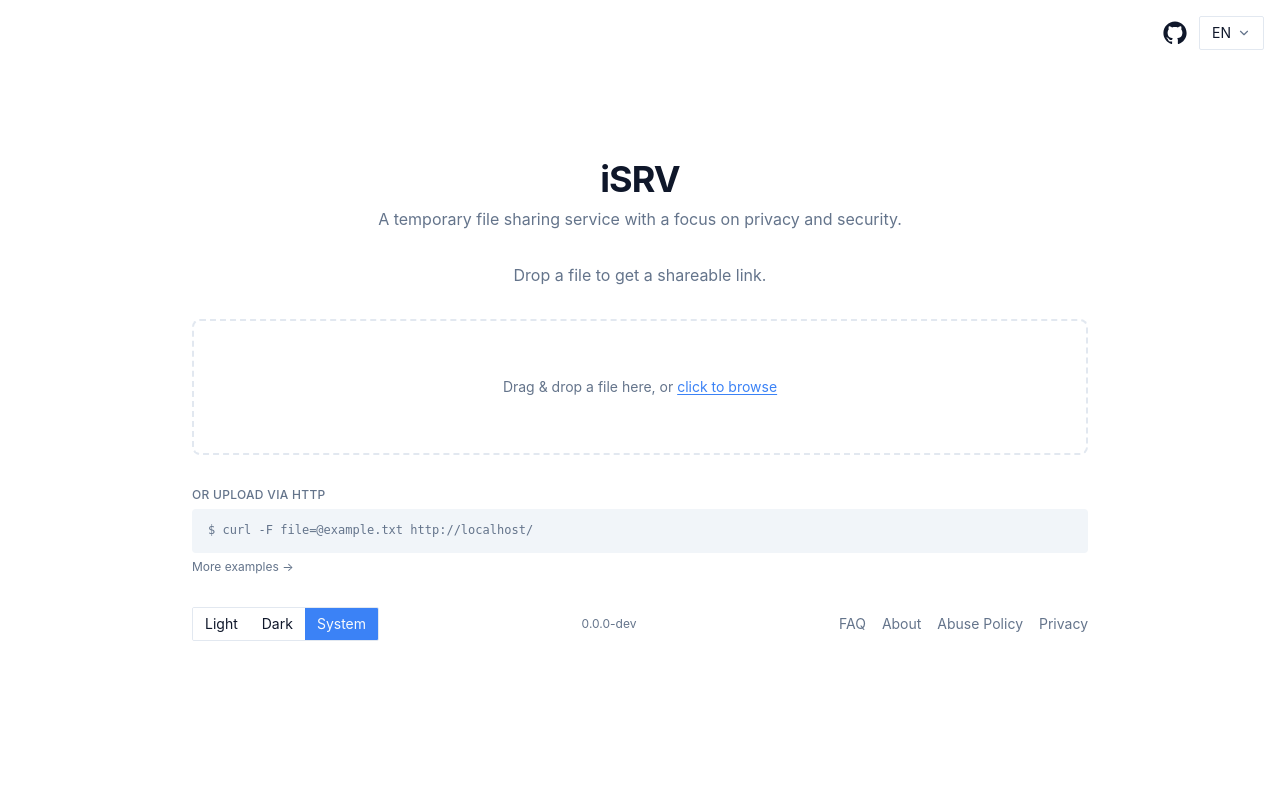
home page › navigates to the FAQ page via the footer
Expected: the heading "iSRV" is shown, [600, 159, 680, 199]
Click the link "FAQ". click: coordinates (852, 624)
box: [839, 614, 866, 634]
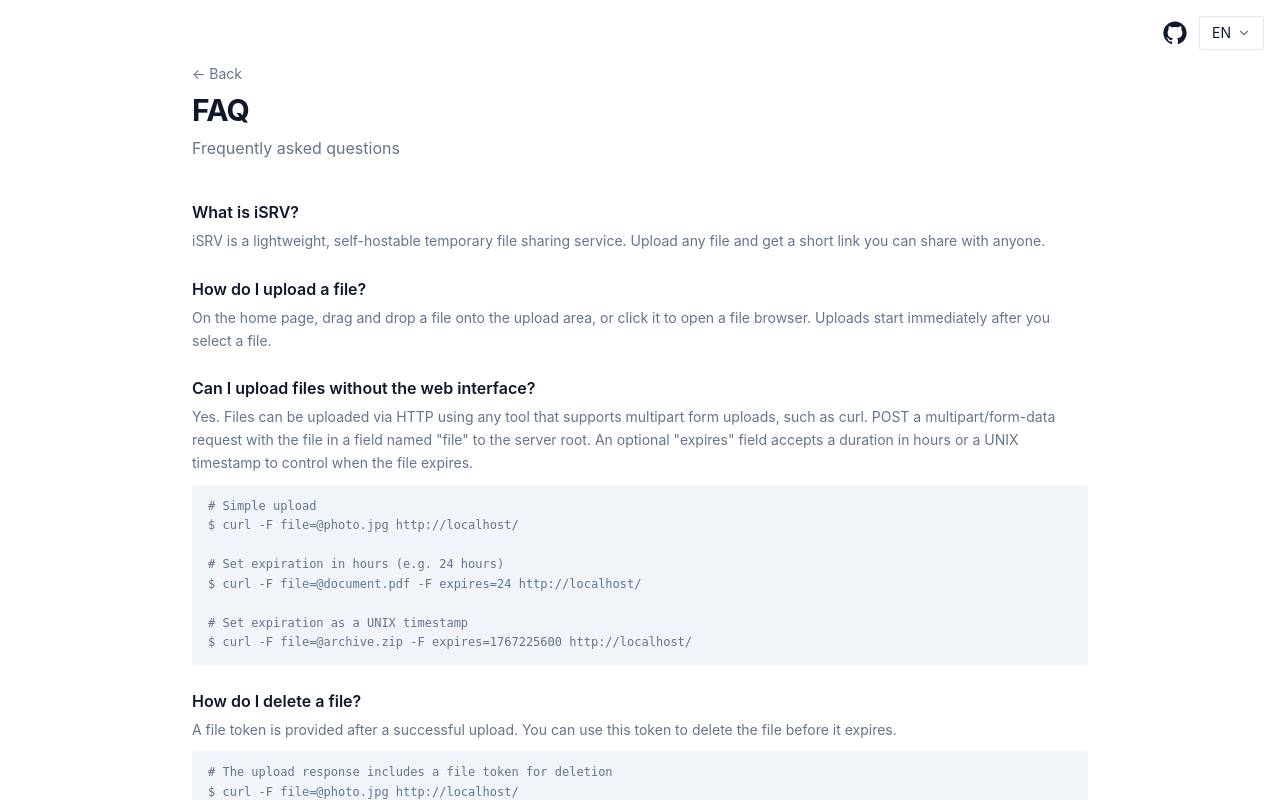
Result: the text "Frequently asked questions" is shown at [192, 138, 400, 158]
